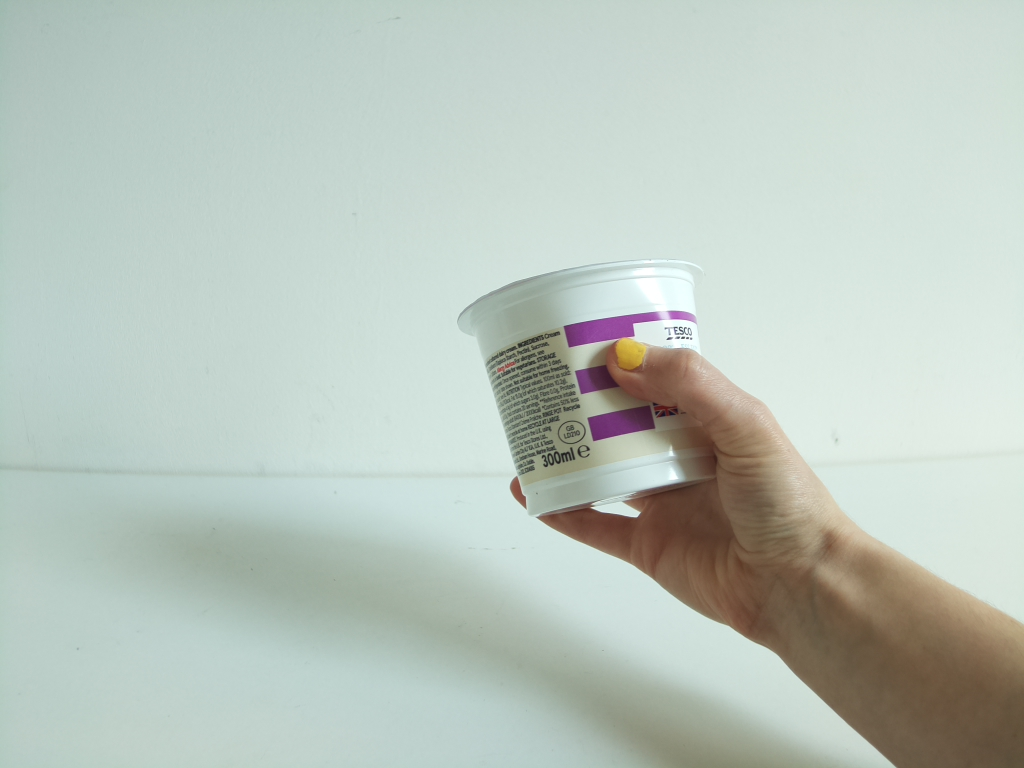cream: (456, 259, 729, 519)
